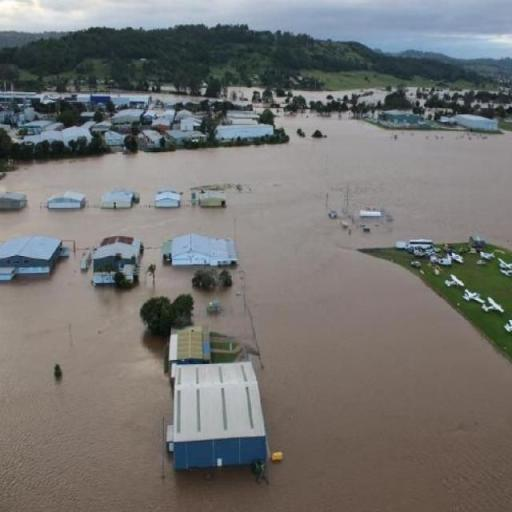flood: (0, 114, 512, 512), (293, 88, 386, 102), (228, 88, 264, 103), (151, 93, 204, 102), (274, 94, 285, 104)
house: (168, 348, 273, 478), (1, 234, 63, 286), (88, 236, 140, 286), (171, 234, 237, 266), (215, 124, 272, 142), (454, 113, 498, 132), (48, 190, 86, 209), (102, 190, 136, 209), (0, 190, 27, 212), (155, 190, 182, 208)
